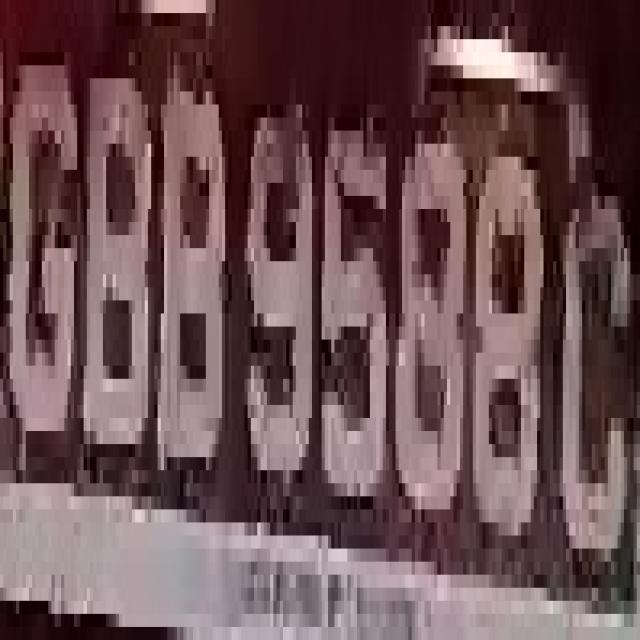5: (318, 105, 392, 522)
8: (466, 104, 553, 548), (389, 118, 473, 522)
9: (244, 131, 316, 483)
B: (151, 52, 228, 588), (77, 52, 158, 470)
C: (560, 130, 630, 614)
G: (9, 39, 86, 483)
